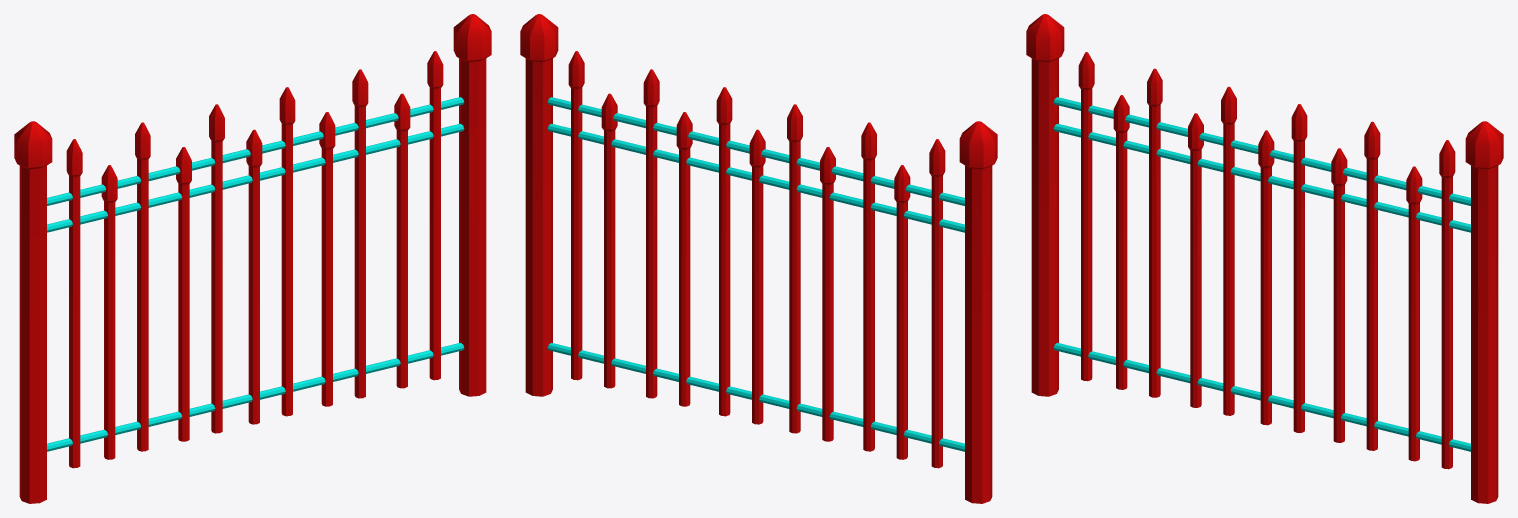
The model's file is FenceModel3.fbx.
The picture shows the model from 3 angles, left to right: view 1: azimuth 30°, elevation 25°; view 2: azimuth 150°, elevation 25°; view 3: azimuth 330°, elevation 25°; orthographic projection.
Visible parts, largest first — view 1: pCube205; view 2: pCube205; view 3: pCube205.
Part boxes in pixels (bbox=[...]): pCube205: bbox=[14, 14, 491, 503]; pCube205: bbox=[520, 14, 997, 503]; pCube205: bbox=[1026, 14, 1503, 503].
Bounding box in the file's own units: 11.72 × 8.91 × 0.8078.
